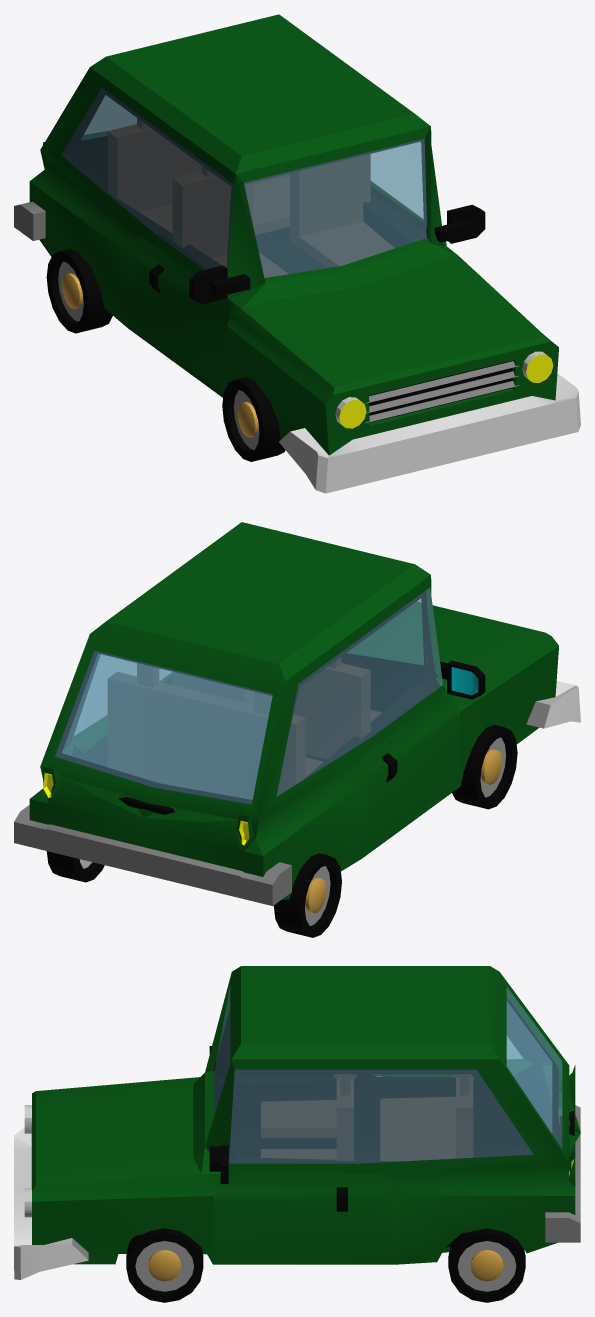
The model's file is CarroSemBunda.fbx.
The picture shows the model from 3 angles, top to bottom: view 1: azimuth 30°, elevation 25°; view 2: azimuth 150°, elevation 25°; view 3: azimuth 270°, elevation 25°; orthographic projection. The views are drawn at different scales.
Parts seen in each view (by area): view 1: CarroSemBunda; view 2: CarroSemBunda; view 3: CarroSemBunda.
Boxes of the visible parts, x1,y1,x2,y2 form: CarroSemBunda: [14, 14, 580, 493]; CarroSemBunda: [14, 522, 580, 937]; CarroSemBunda: [14, 966, 580, 1302].
Size of the model in its own units: 297 by 256 by 546.
